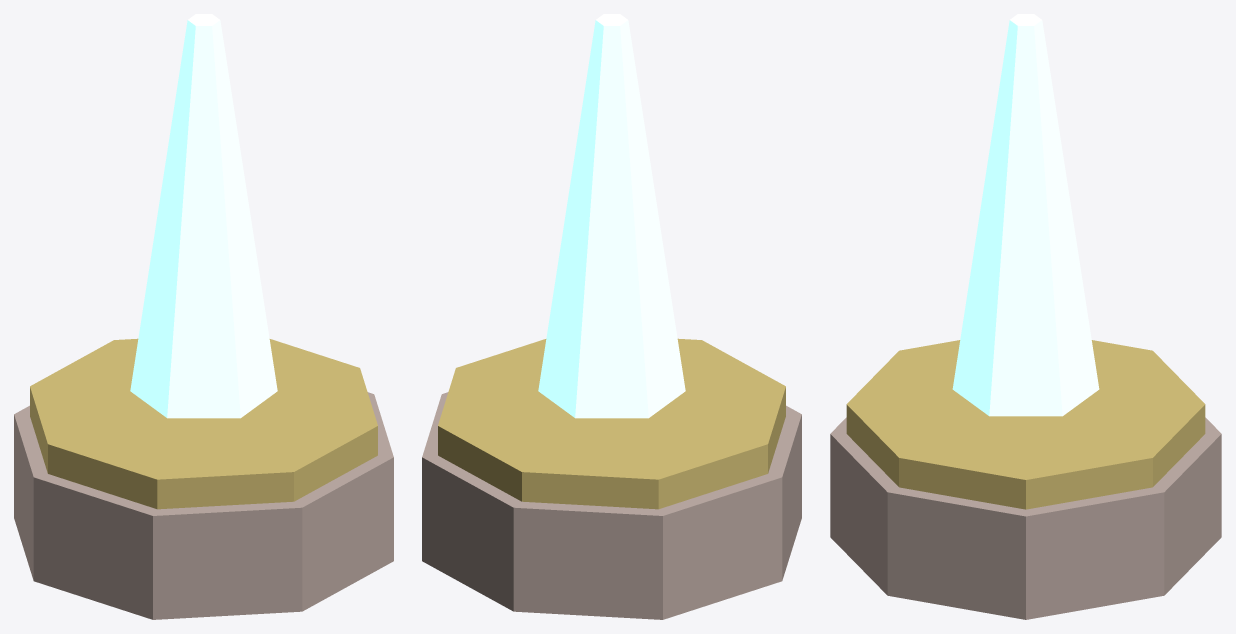
The model's file is Gimmick_GreenBeacon.fbx.
3 renders of one model, left to right at view 1: azimuth 30°, elevation 25°; view 2: azimuth 150°, elevation 25°; view 3: azimuth 270°, elevation 25°, orthographic.
Parts seen in each view (by area): view 1: Gimmick_GreenBeacon_Base, Gimmick_GreenBeacon_Ring, Gimmick_GreenBeacon_Crystal; view 2: Gimmick_GreenBeacon_Base, Gimmick_GreenBeacon_Ring, Gimmick_GreenBeacon_Crystal; view 3: Gimmick_GreenBeacon_Base, Gimmick_GreenBeacon_Ring, Gimmick_GreenBeacon_Crystal.
Part boxes in pixels (x1,y1,x2,y2): Gimmick_GreenBeacon_Base: (14, 392, 393, 619); Gimmick_GreenBeacon_Ring: (30, 338, 377, 509); Gimmick_GreenBeacon_Crystal: (130, 14, 277, 418); Gimmick_GreenBeacon_Base: (422, 392, 801, 619); Gimmick_GreenBeacon_Ring: (438, 338, 785, 509); Gimmick_GreenBeacon_Crystal: (538, 14, 685, 418); Gimmick_GreenBeacon_Base: (830, 417, 1221, 619); Gimmick_GreenBeacon_Ring: (846, 340, 1205, 509); Gimmick_GreenBeacon_Crystal: (952, 14, 1099, 416).
Bounding box in the file's own units: 0.48 × 0.7 × 0.48.
